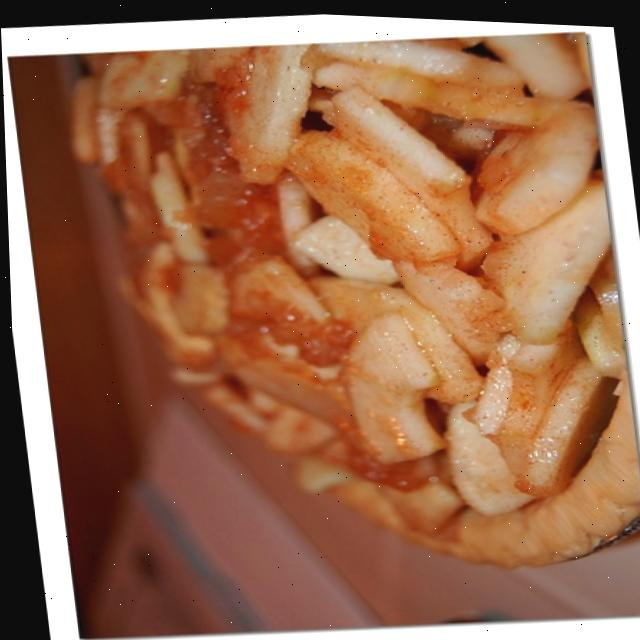炸货点心: (33, 15, 628, 635)
蛋糕甜品: (33, 15, 628, 635)
